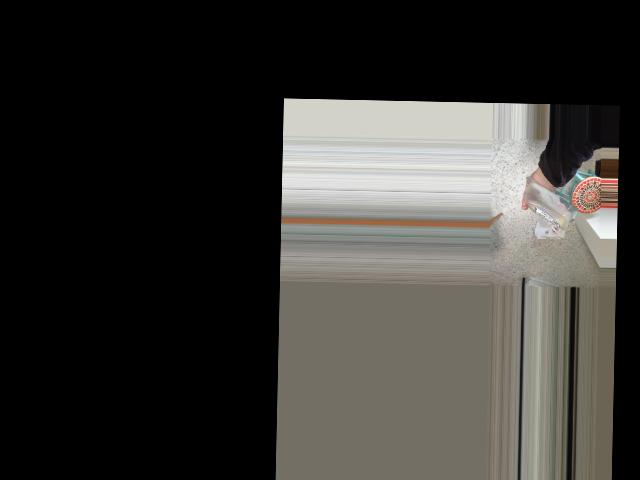cheese: (517, 172, 594, 246)
